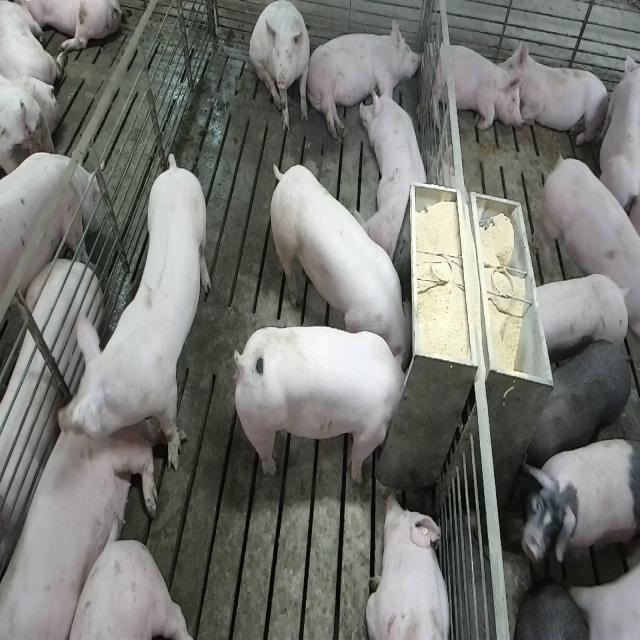Feeding: (265, 160, 412, 367), (239, 323, 416, 485)
Lateral_lying: (306, 15, 423, 142)
Sitting: (250, 1, 312, 134)
Standing: (56, 156, 211, 483), (533, 152, 637, 336), (0, 155, 98, 348), (518, 438, 638, 574), (525, 336, 636, 472), (531, 274, 630, 358), (565, 534, 637, 638)
Sternal_lying: (0, 361, 152, 635), (366, 490, 453, 640), (364, 71, 433, 259), (509, 41, 612, 149), (424, 35, 524, 135)
